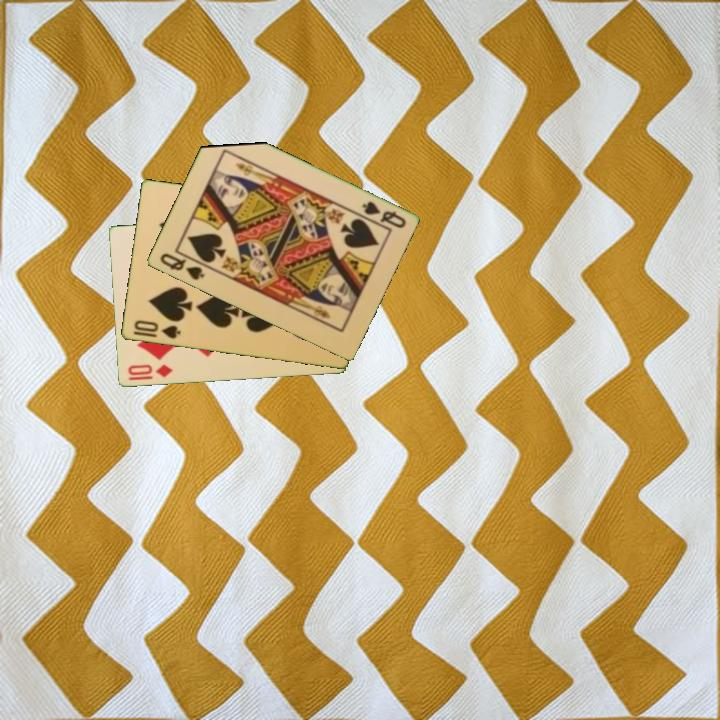10d: (124, 361, 175, 384)
10s: (130, 317, 183, 342)
Qs: (156, 250, 207, 283), (358, 198, 409, 231)
